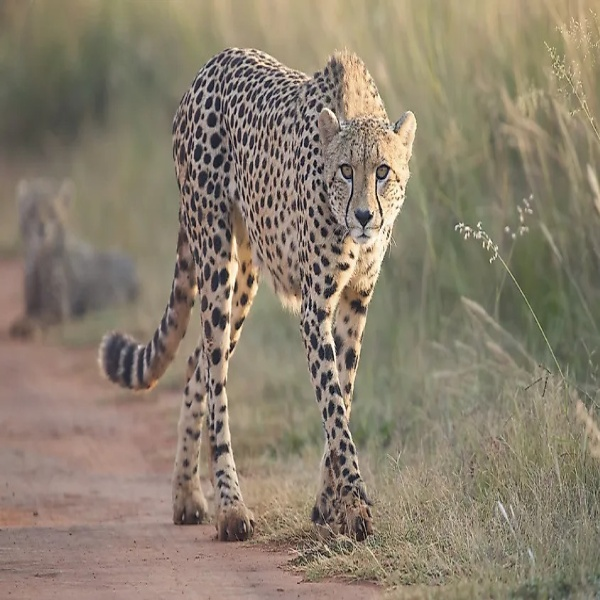Cheetah: (94, 41, 426, 547)
